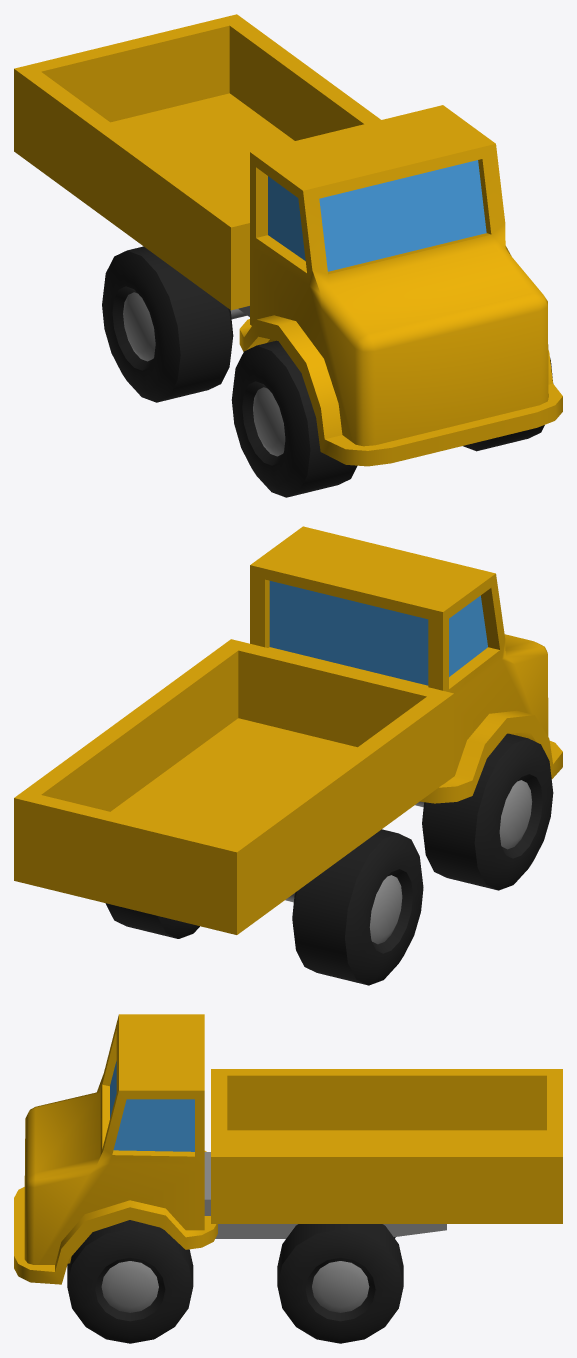
The model's file is Truck.fbx.
3 views of the same model, one above another, from view 1: azimuth 30°, elevation 25°; view 2: azimuth 150°, elevation 25°; view 3: azimuth 270°, elevation 25° (orthographic). The views are drawn at different scales.
Parts seen in each view (by area): view 1: Truck; view 2: Truck; view 3: Truck.
Boxes of the visible parts, <box> form: Truck: <box>14,14,562,497</box>; Truck: <box>14,526,562,985</box>; Truck: <box>14,1014,562,1343</box>.
Bounding box in the file's own units: 1.49 × 1.66 × 3.39.
